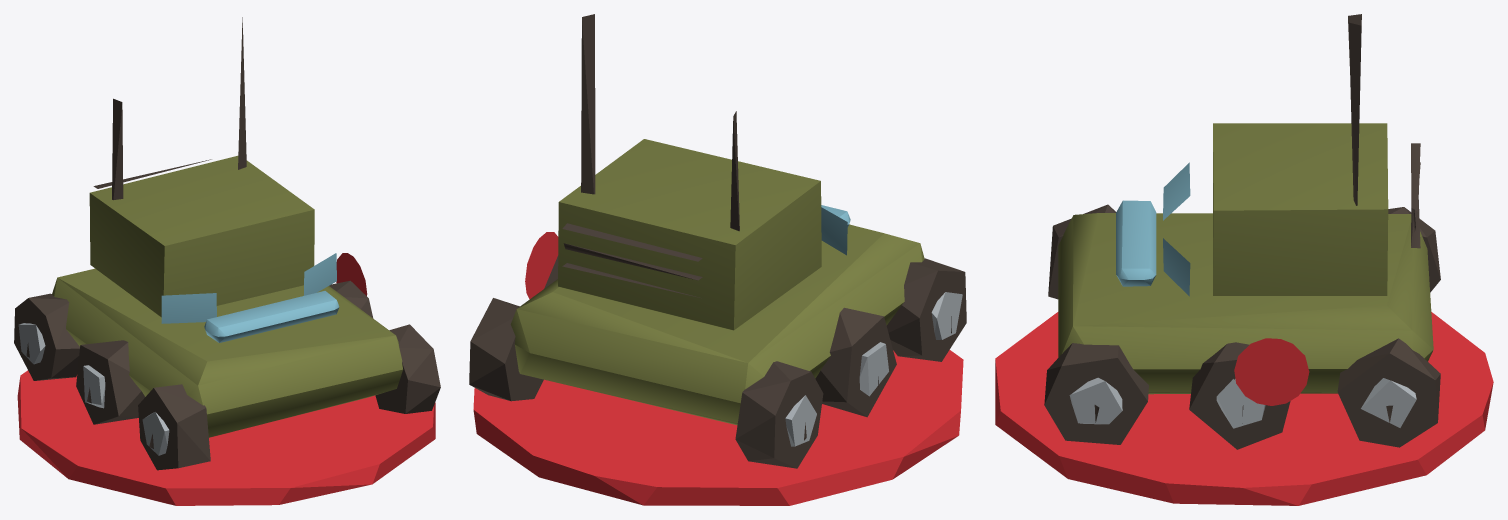
Rendered from japan_headquarters_lod1.glb.
3 views of the same model, side by side, from view 1: azimuth 30°, elevation 25°; view 2: azimuth 150°, elevation 25°; view 3: azimuth 270°, elevation 25° (orthographic). The views are drawn at different scales.
Parts seen in each view (by area): view 1: body_hull, base_pedestal; view 2: body_hull, base_pedestal; view 3: body_hull, base_pedestal.
Boxes of the visible parts, x1,y1,x2,y2 form: body_hull: (14, 17, 440, 470); base_pedestal: (17, 370, 435, 505); body_hull: (469, 14, 966, 468); base_pedestal: (473, 350, 963, 505); body_hull: (1044, 14, 1440, 449); base_pedestal: (995, 312, 1493, 505).
Bounding box in the file's own units: 0.7751 × 0.7101 × 0.7751.
